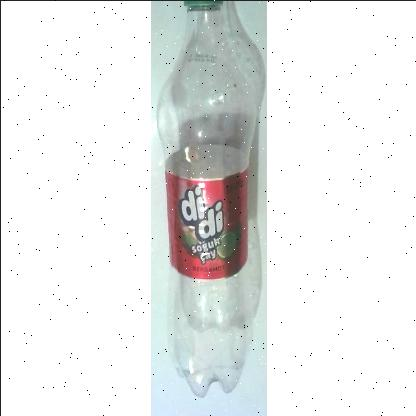Plastic Bottle: (154, 0, 265, 397)
